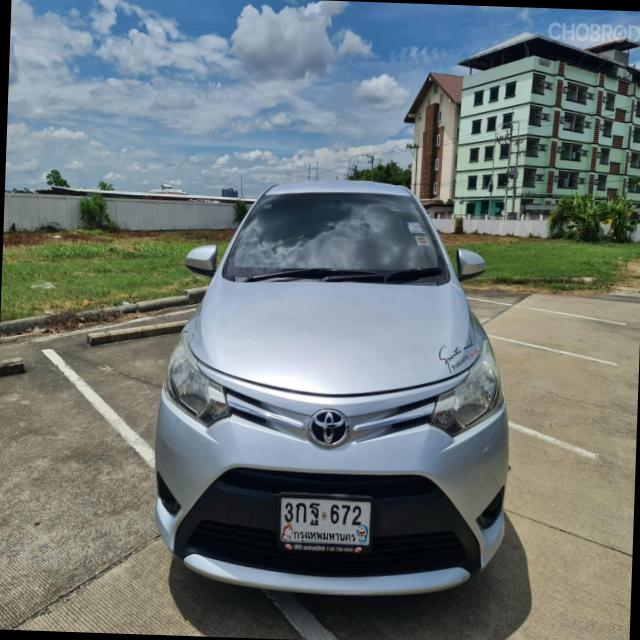license_plate: (274, 489, 378, 558)
